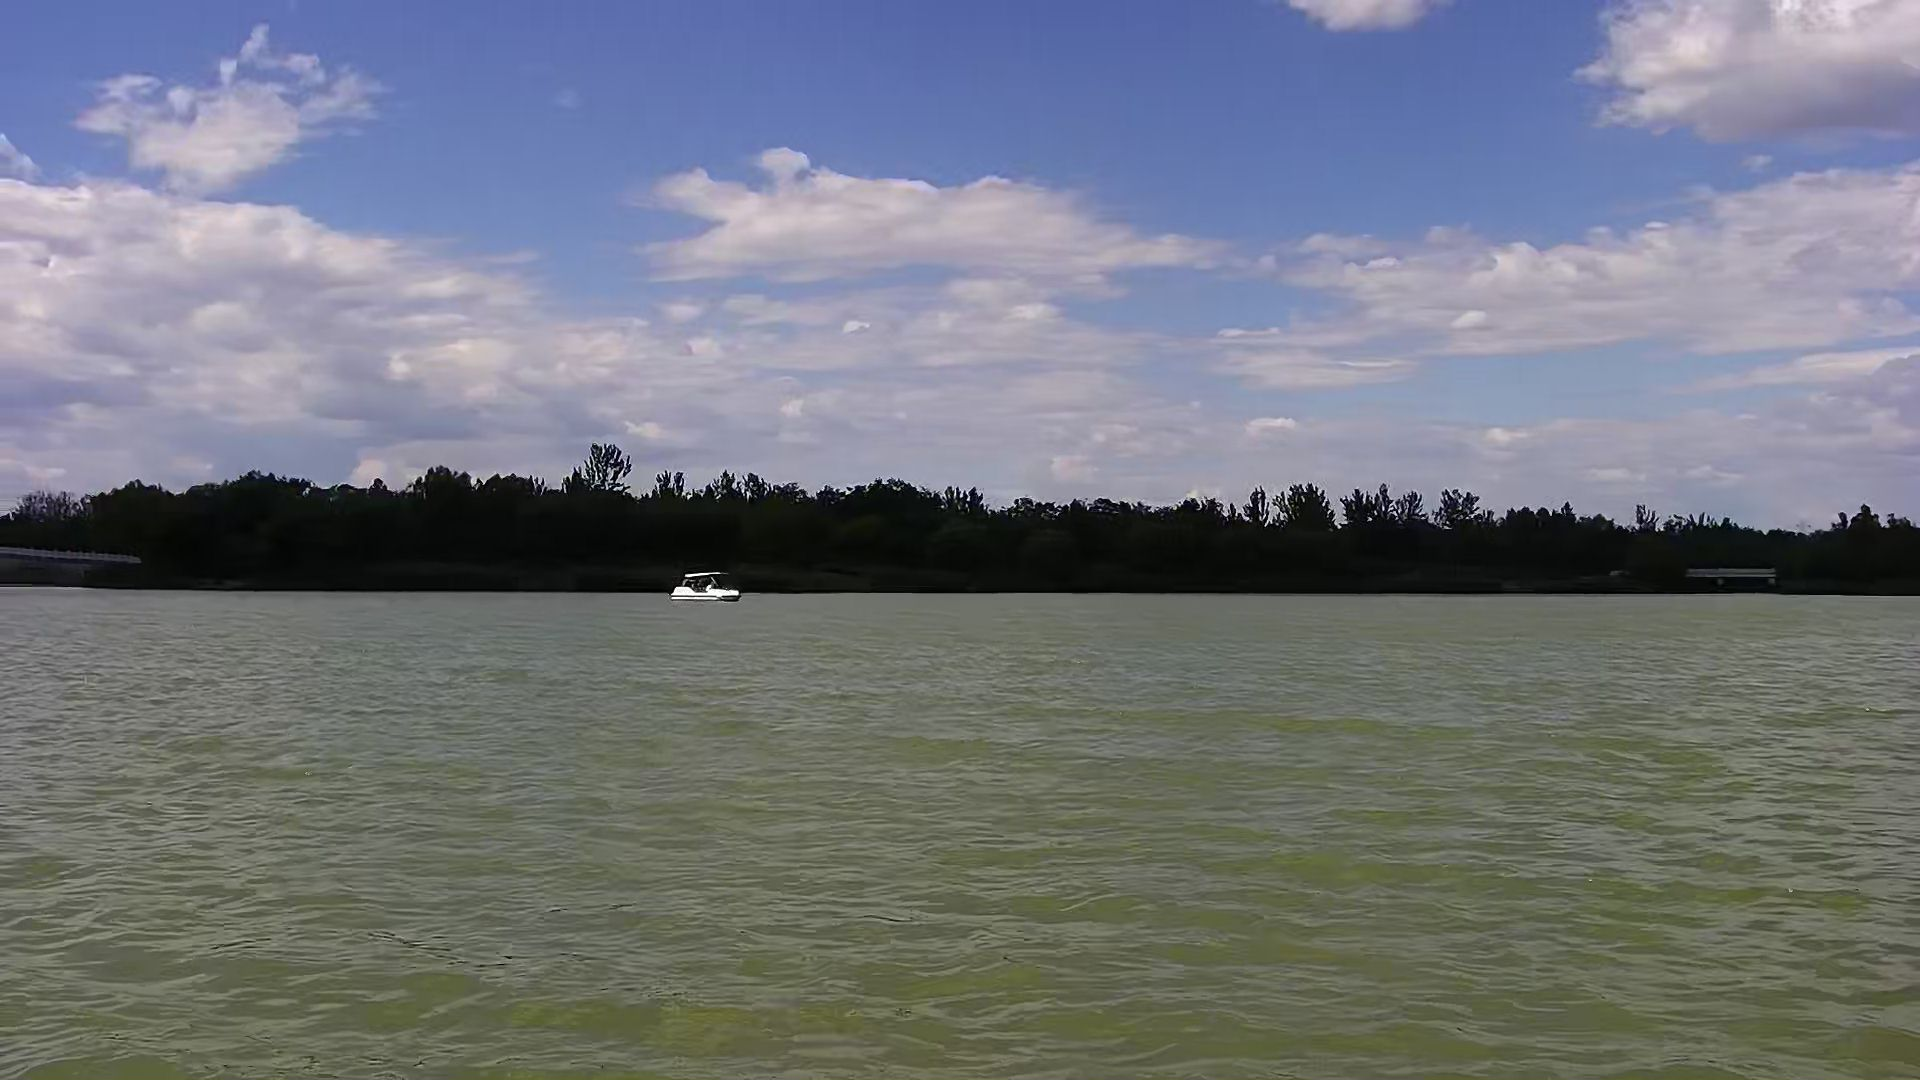boat: (671, 566, 746, 612)
